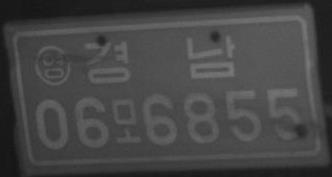0: (36, 97, 68, 151)
5: (224, 88, 262, 144), (266, 87, 305, 141)
6: (73, 96, 110, 149), (142, 92, 178, 146)
8: (182, 91, 220, 145)
경남_D: (83, 33, 235, 84)
모: (111, 97, 142, 144)
영: (34, 44, 71, 87)
